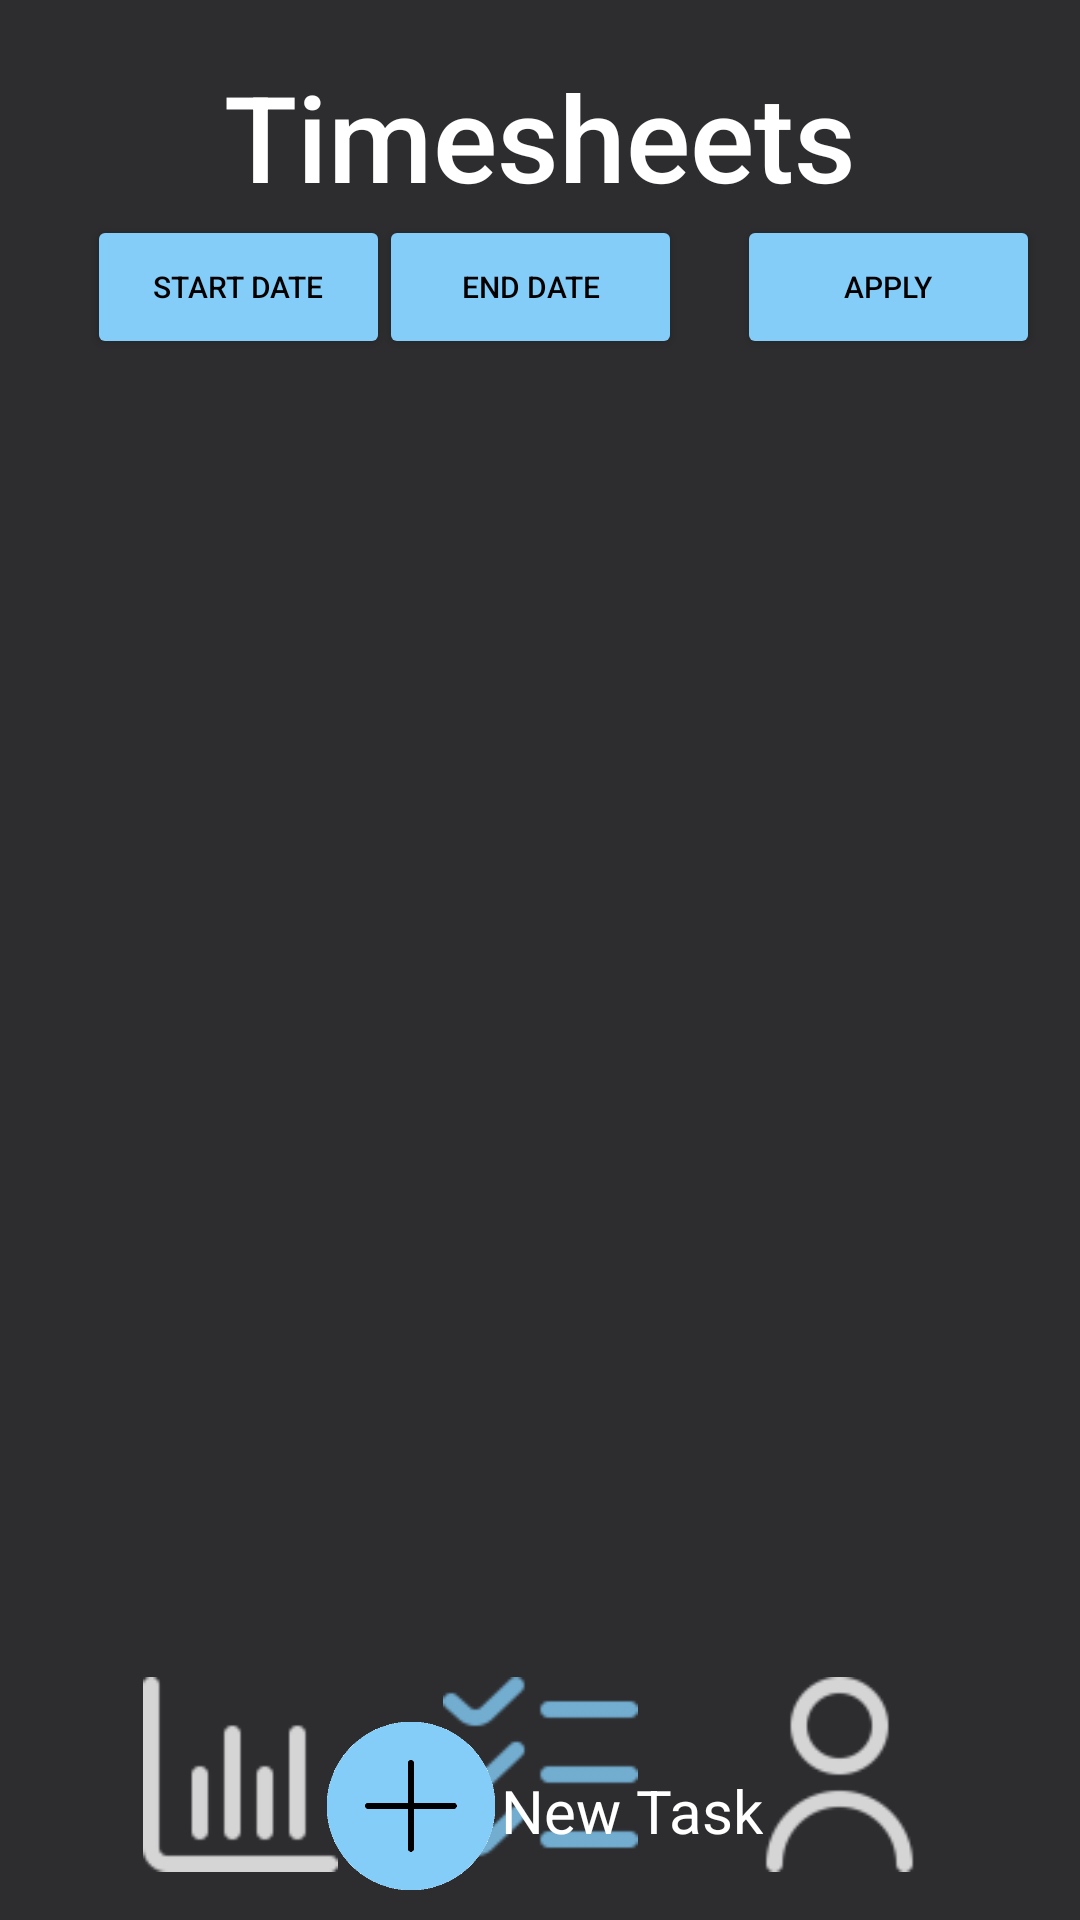

Icons on this 1080×1920 Android screen, each with the point to tap as (x=x, y=y):
plus clear: (x=411, y=1803)
profileblack: (x=828, y=1774)
progressblack: (x=240, y=1774)
timehseetblue: (x=540, y=1763)
